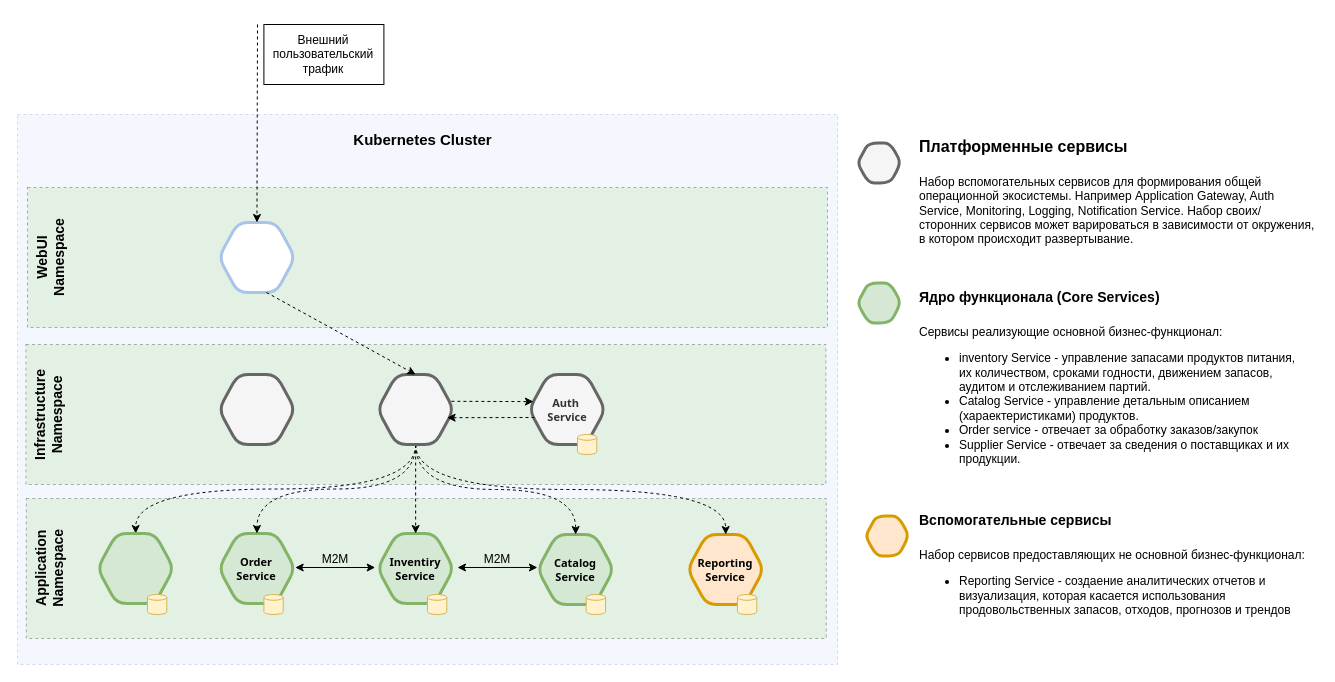
The diagram is 1335 pixels wide and 682 high, and some of its shapes have lost their labels. Each missing label, with the centre of its shape:
"APP GW" belongs at point 415,409.
"Notification Service" belongs at point 256,409.
"Supplier Service" belongs at point 135,568.
"WebUI" belongs at point 256,257.
